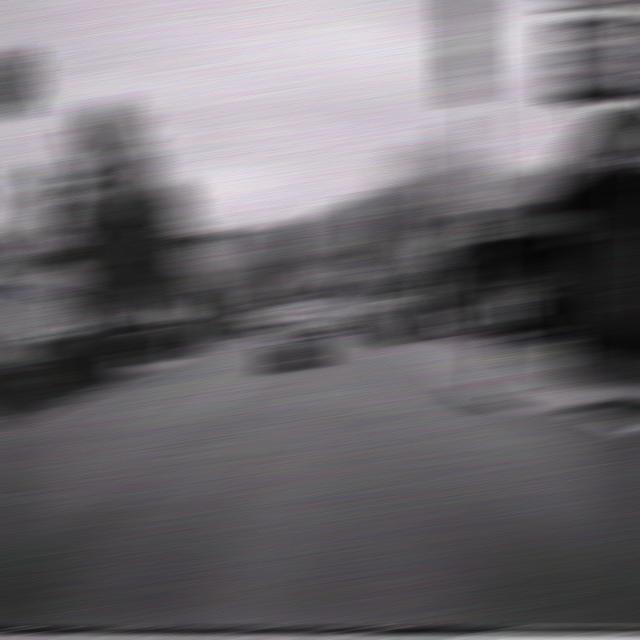speedLimit25: (465, 194, 504, 242)
